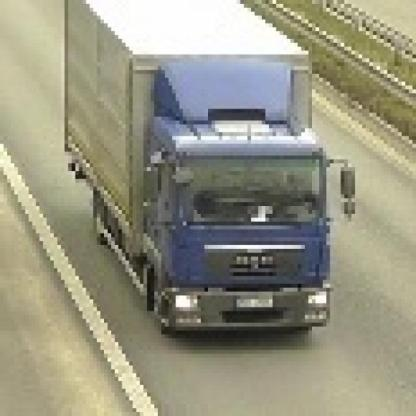truck: (69, 1, 360, 331)
